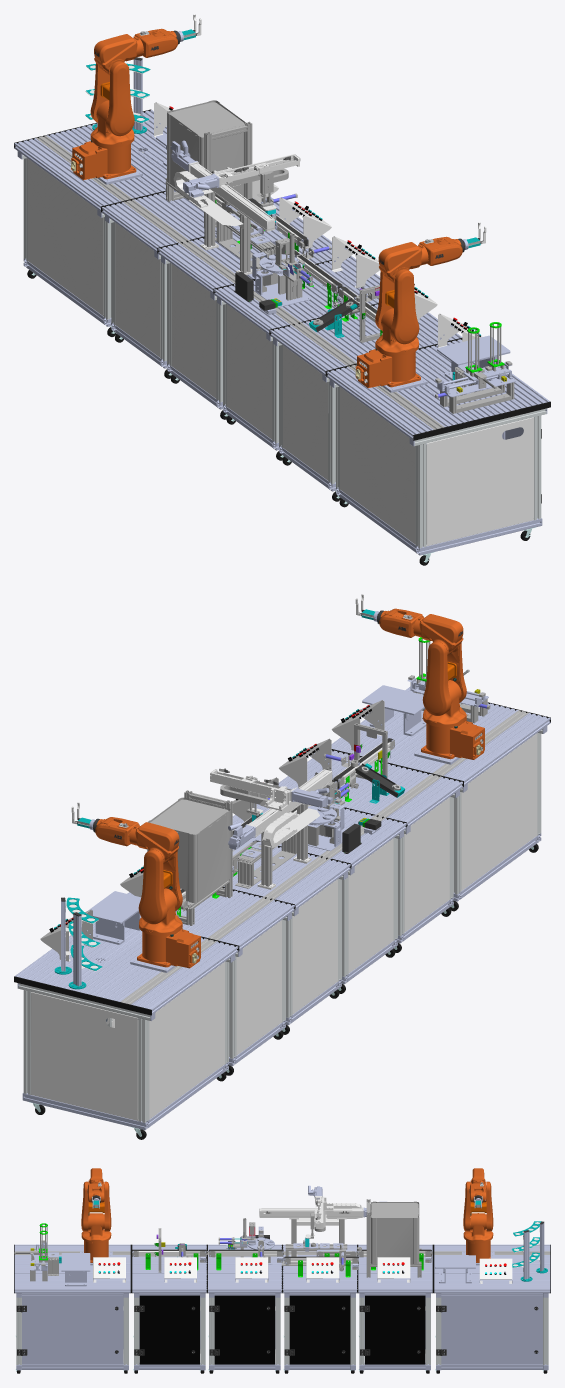
File: line-overview.glb
3 views of the same model, one above another, from view 1: azimuth 30°, elevation 25°; view 2: azimuth 150°, elevation 25°; view 3: azimuth 270°, elevation 25° (orthographic). The views are drawn at different scales.
Parts seen in each view (by area): view 1: S01, S06, S04, S05, S03, S02; view 2: S06, S01, S04, S05, S02, S03; view 3: S06, S01, S04, S05, S03, S02.
Boxes of the visible parts, x1,y1,x2,y2 form: S01: (326,222,550,565); S06: (14,14,201,336); S04: (157,140,350,419); S05: (101,100,279,378); S03: (213,233,380,460); S02: (269,284,462,501); S06: (14,802,238,1139); S01: (331,594,550,911); S04: (210,768,351,1034); S05: (120,790,295,1075); S02: (278,723,463,952); S03: (232,767,407,993); S06: (433,1168,550,1373); S01: (14,1168,131,1373); S04: (259,1185,386,1373); S05: (357,1199,433,1373); S03: (206,1218,283,1373); S02: (131,1228,207,1373).
Bounding box in the file's own units: 0.8058 × 1.46 × 3.93.
